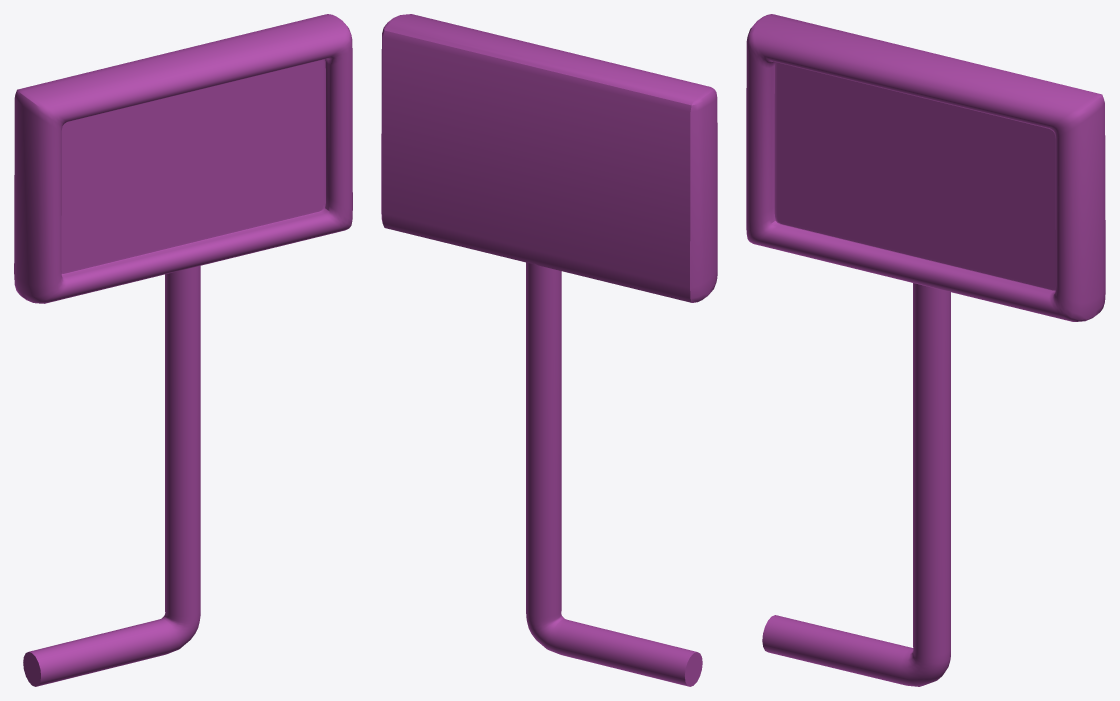
The model's file is sign (2).fbx.
3 renders of one model, left to right at view 1: azimuth 30°, elevation 25°; view 2: azimuth 150°, elevation 25°; view 3: azimuth 330°, elevation 25°, orthographic. The views are drawn at different scales.
Parts seen in each view (by area): view 1: sign; view 2: sign; view 3: sign.
Part boxes in pixels (x1=…): sign: x1=14, y1=14, x2=352, y2=686; sign: x1=381, y1=14, x2=717, y2=686; sign: x1=746, y1=14, x2=1105, y2=686.
Size of the model in its own units: 577 by 1018 by 94.09.
